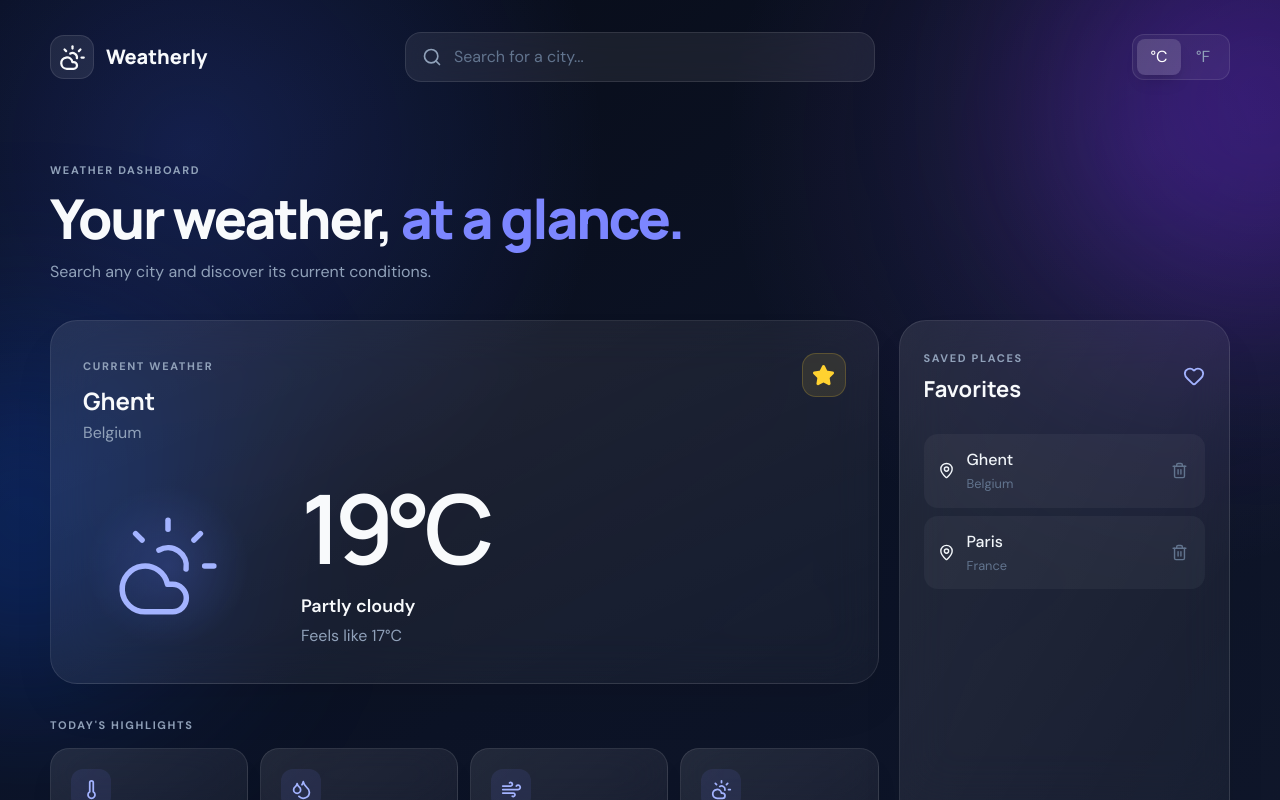
Unit toggle › switches back to Celsius
What coordinates should you click on to do the following:
click the button with test id "unit-fahrenheit"
I would click on:
 (1203, 57)
Its box is [1181,39,1225,75].
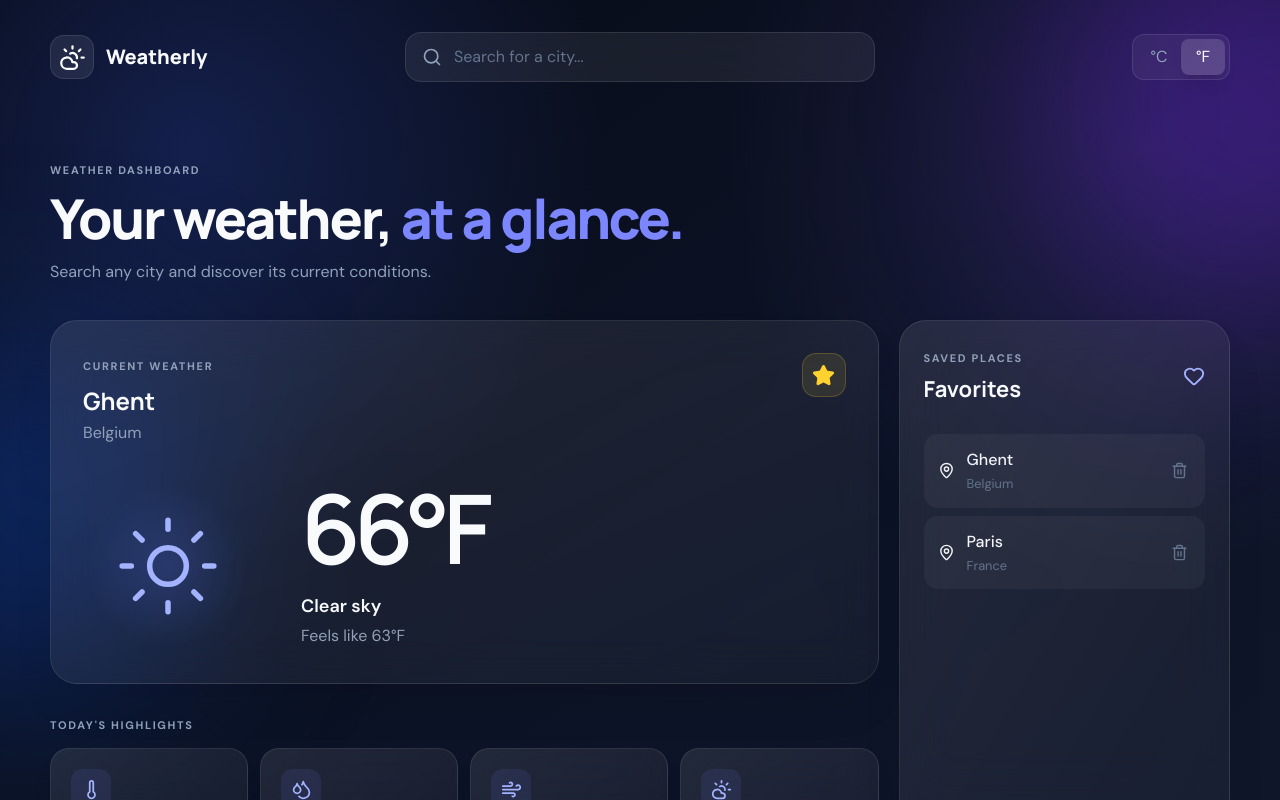
What coordinates should you click on to do the following:
click the button with test id "unit-celsius"
I would click on:
 (1159, 57)
Its box is [1137,39,1181,75].
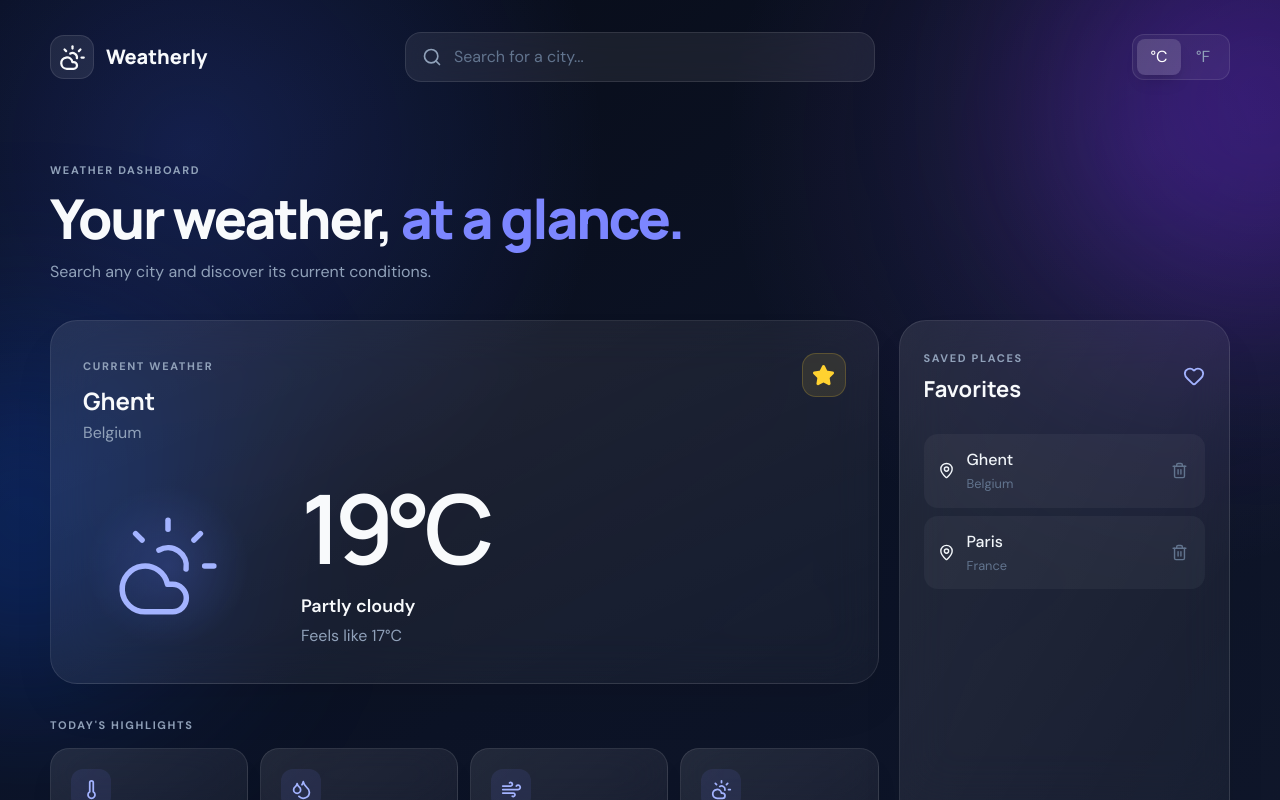
Check: the text with test id "temperature" reads "19°C", box [301,485,488,571]
